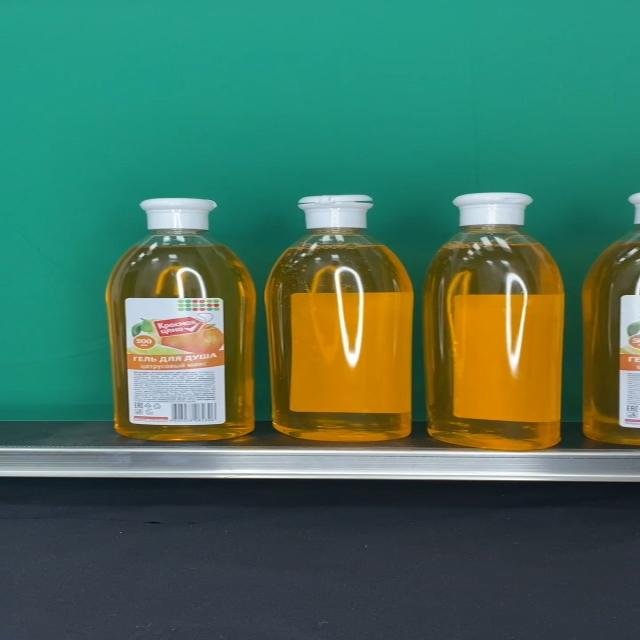Bottle: (263, 194, 414, 441), (106, 198, 256, 440), (425, 192, 564, 450)
Cap: (452, 192, 534, 225), (298, 196, 374, 230), (139, 198, 217, 230)
